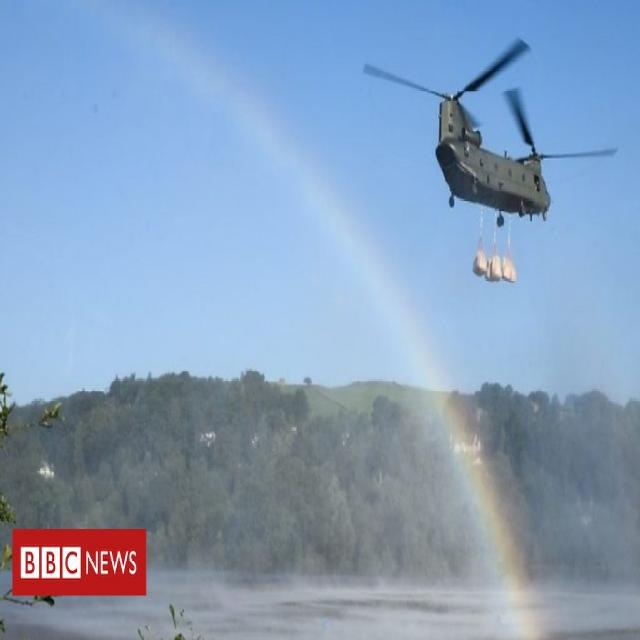helicopter: (360, 35, 634, 289)
